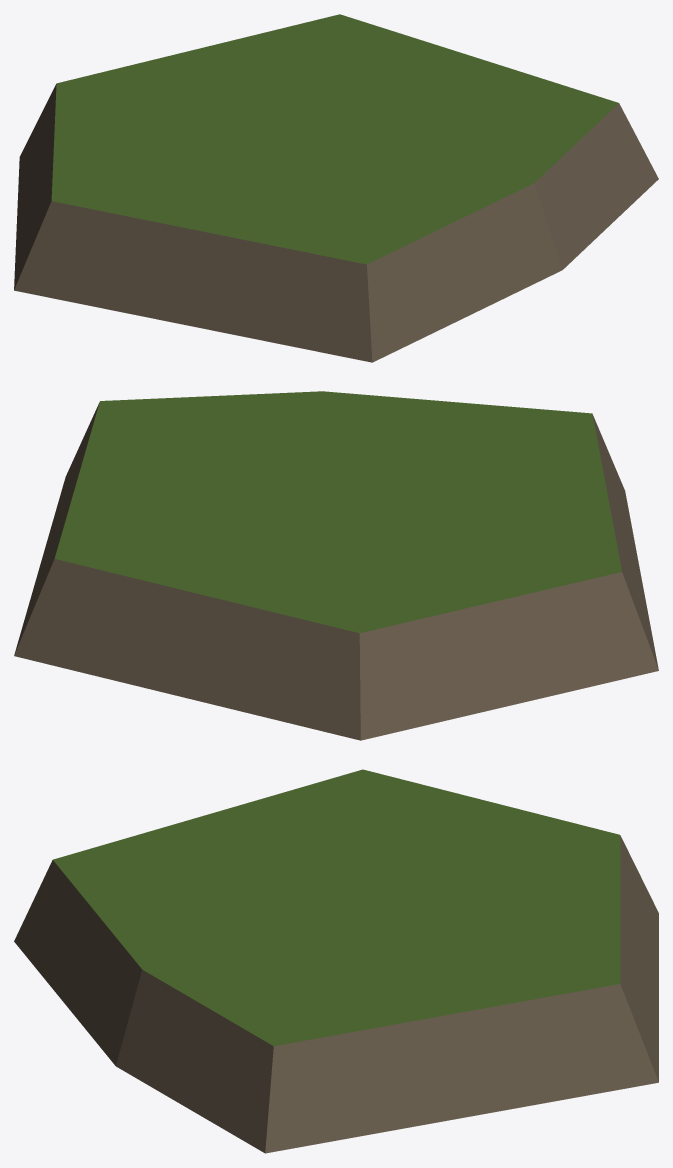
Rendered from rock_small_flat_a.glb.
3 views of the same model, one above another, from view 1: azimuth 30°, elevation 25°; view 2: azimuth 150°, elevation 25°; view 3: azimuth 270°, elevation 25° (orthographic). The views are drawn at different scales.
Visible parts, largest first — view 1: rock_smallFlatA; view 2: rock_smallFlatA; view 3: rock_smallFlatA.
Part boxes in pixels (<box>): rock_smallFlatA: <box>14,14,658,362</box>; rock_smallFlatA: <box>14,391,658,740</box>; rock_smallFlatA: <box>14,769,658,1153</box>.
Bounding box in the file's own units: 0.4958 × 0.0649 × 0.4296.
